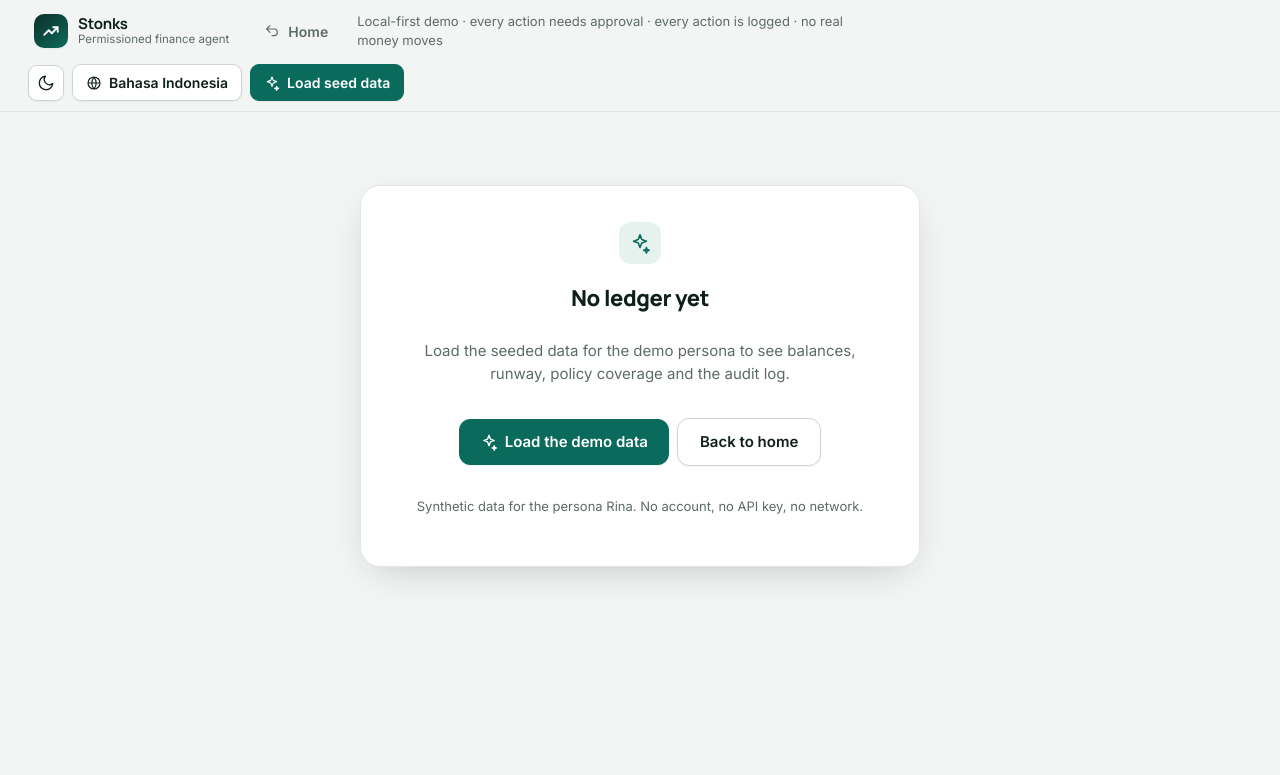
Test: UI shell › verifies the audit chain from the UI
Click the button with test id "load-seed". click: (327, 82)
box: [250,64,404,101]
(page scrolled)
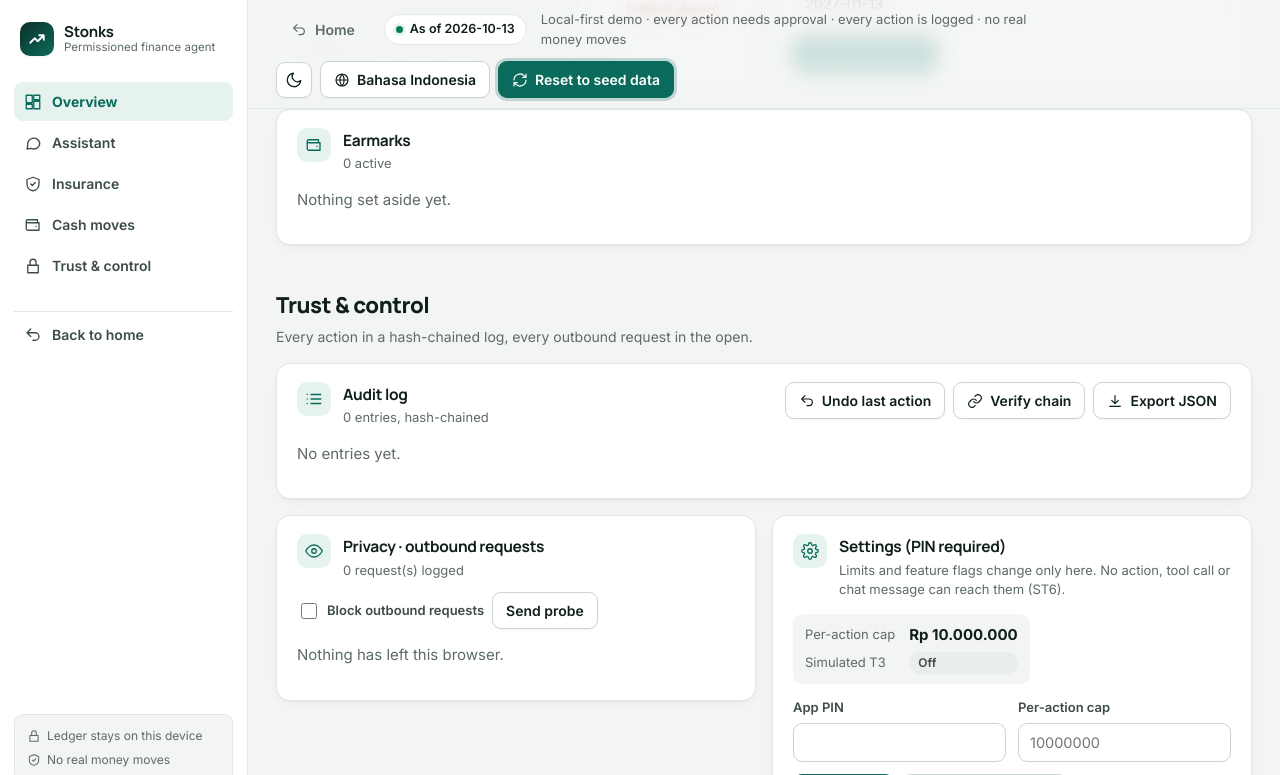
Click the button with test id "verify-audit". click: (1019, 400)
box: [953,382,1085,419]
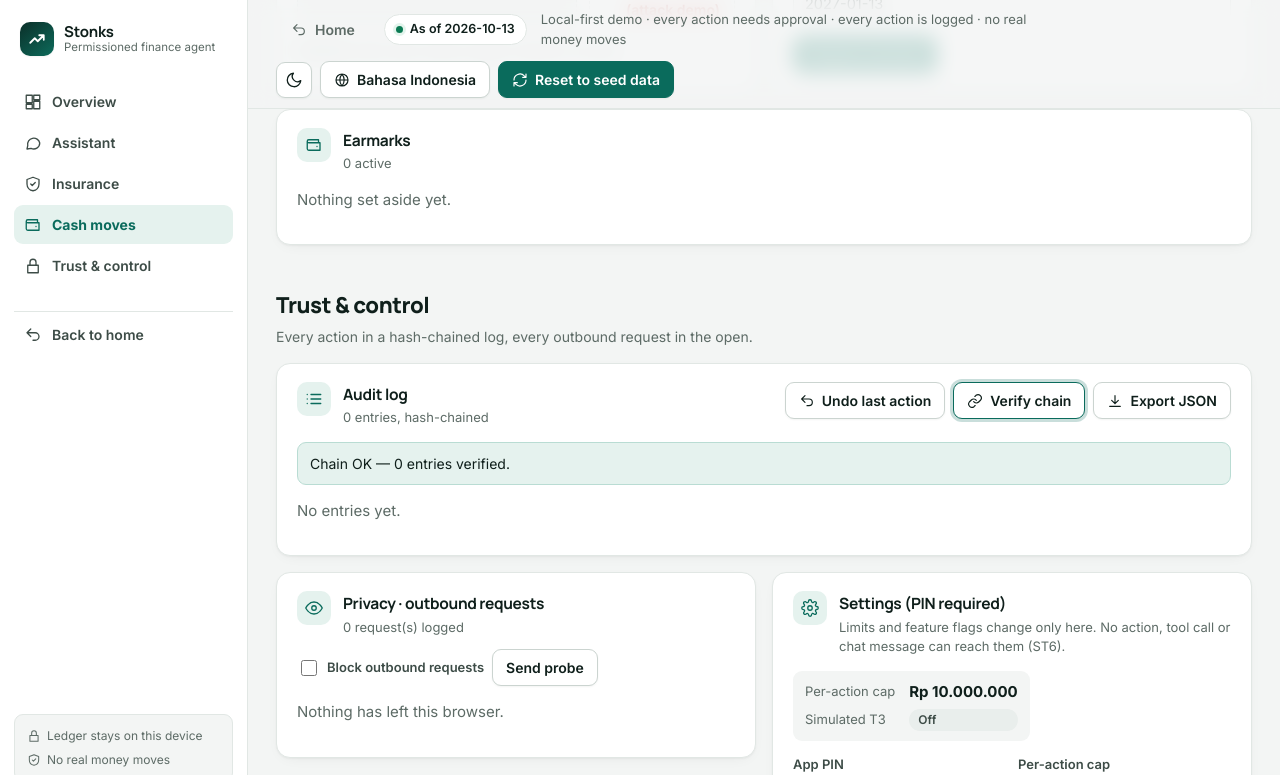
Check: the message with test id "audit-verification" shows "Chain OK", box [310,455,510,472]
